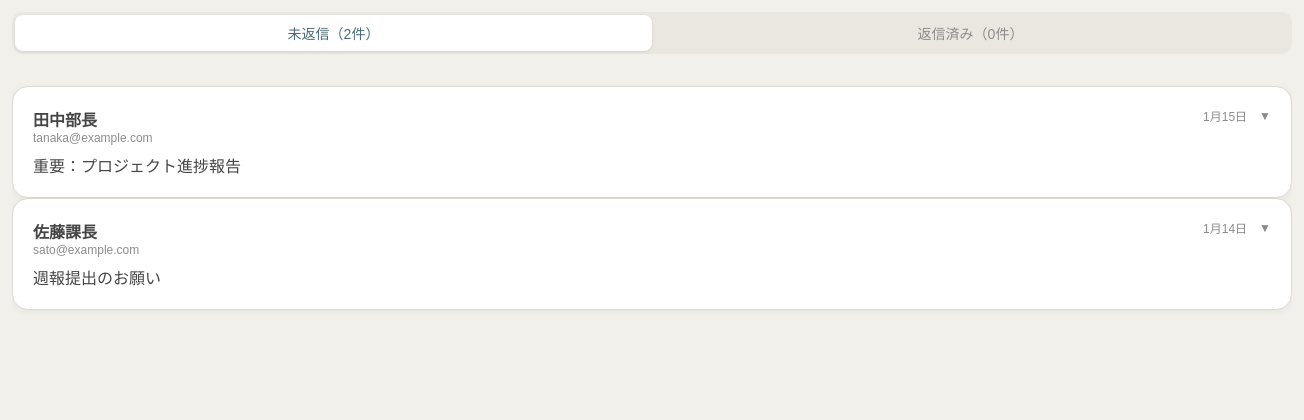
Test case: EmailList › 処理中メールのローディング表示 (Requirement 4.5) › should show loading indicator for unprocessed emails when expanded
Step 1. Click the button with class "email-card-header" that starts with "佐藤課長" → (65, 232), box top-left (13, 199), bottom-right (1291, 309)
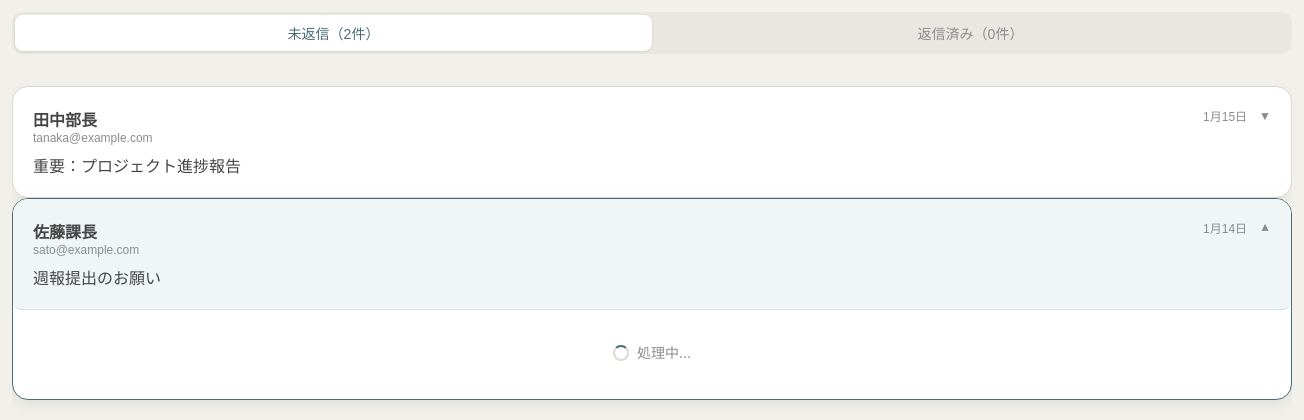
Expected: the text "処理中..." is shown, top-left (637, 342), bottom-right (691, 363)
